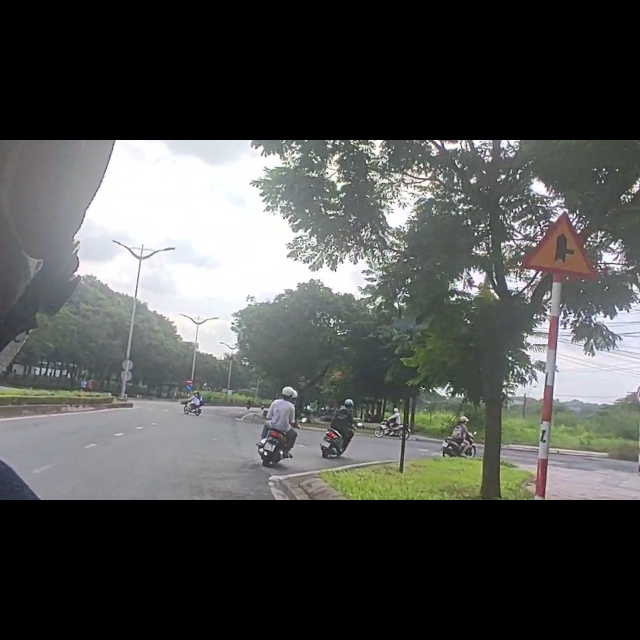Giao nhau với đường không ưu tiên: (518, 210, 598, 280)
